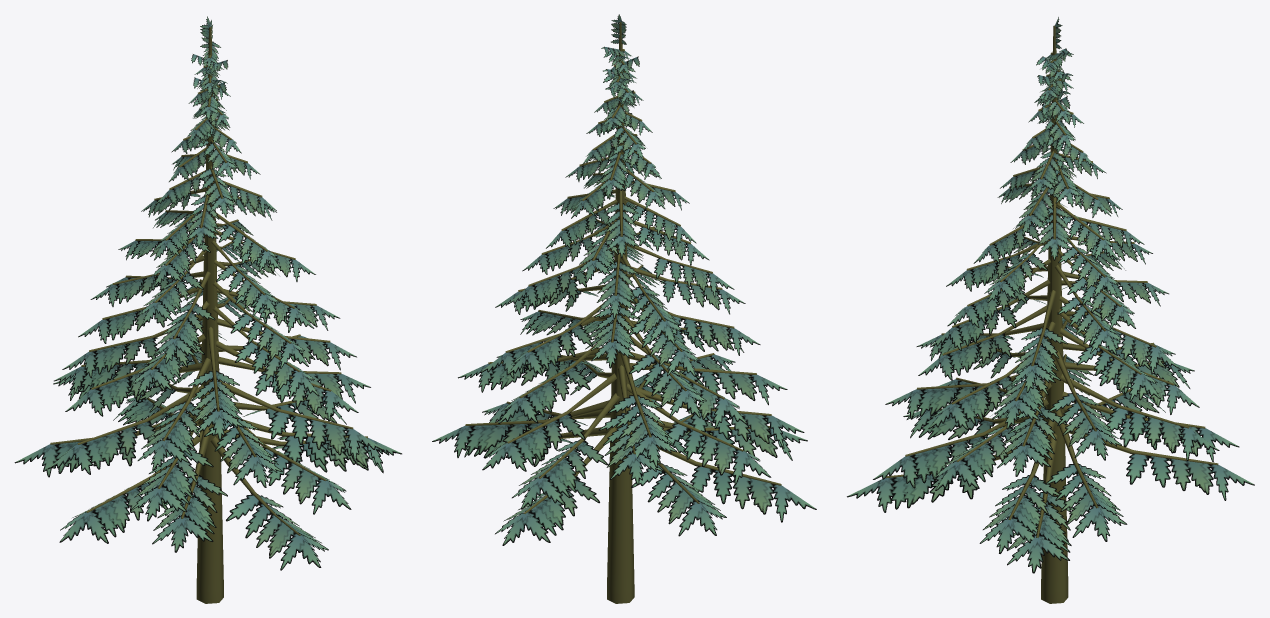
File: pine-drooping.gltf
3 views of the same model, side by side, from view 1: azimuth 30°, elevation 25°; view 2: azimuth 150°, elevation 25°; view 3: azimuth 270°, elevation 25° (orthographic).
Parts seen in each view (by area): view 1: leaves, bark; view 2: leaves, bark; view 3: leaves, bark.
Part boxes in pixels (left/top/right/bottom): leaves: left=14, top=16, right=401, bottom=570; bark: left=50, top=27, right=367, bottom=603; leaves: left=432, top=14, right=816, bottom=545; bark: left=465, top=22, right=781, bottom=603; leaves: left=847, top=17, right=1254, bottom=573; bark: left=885, top=25, right=1218, bottom=603.
Bounding box in the file's own units: 2.33 × 3.7 × 2.36.
2 materials, 1 textured.
